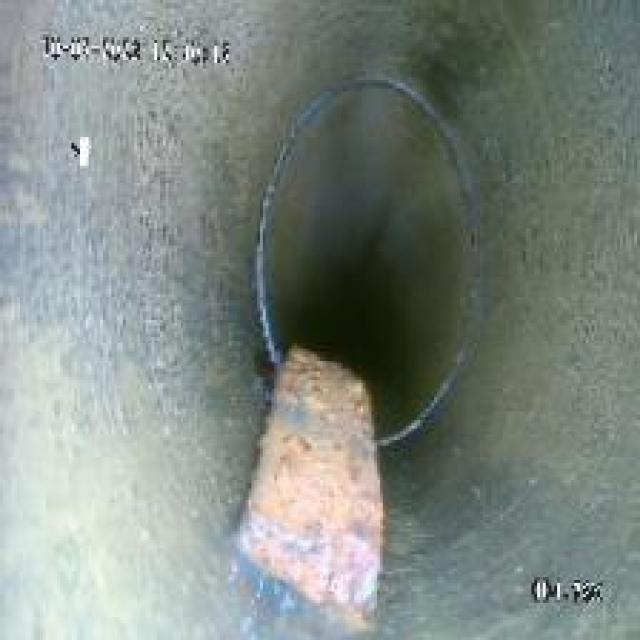stone: (254, 329, 400, 620)
